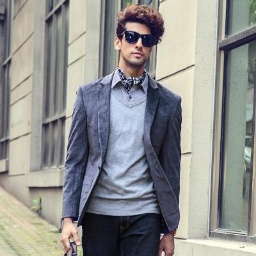face: (112, 4, 166, 69)
